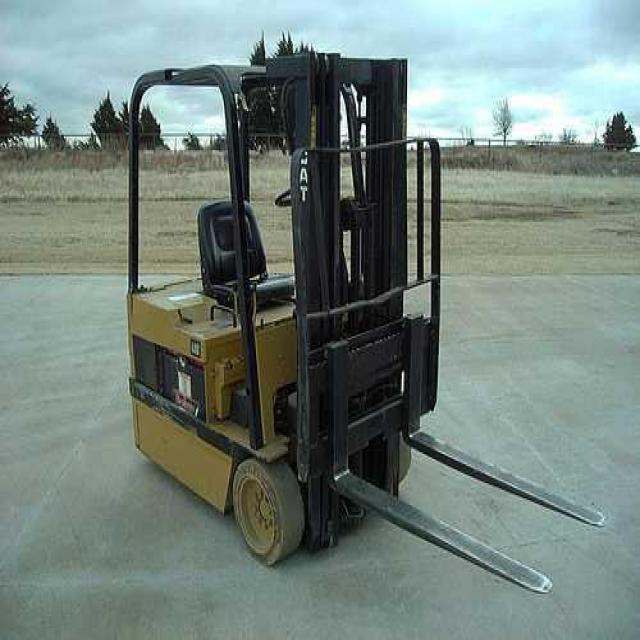Chariot elevateur: (124, 49, 611, 594)
